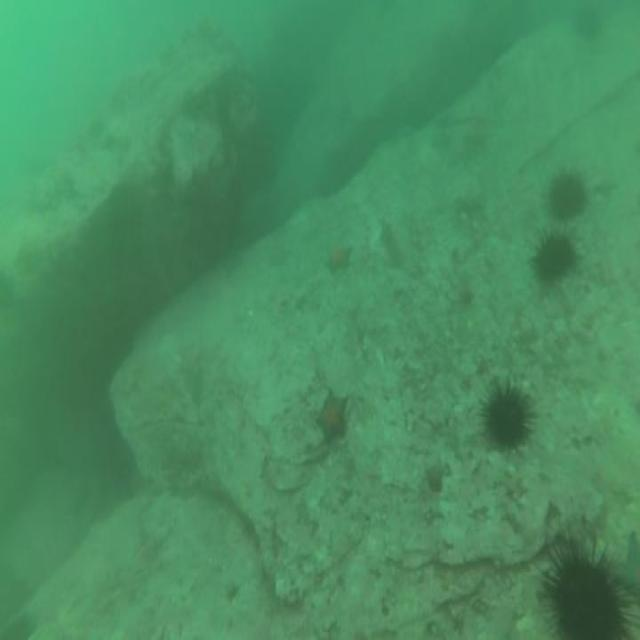echinus: (543, 521, 637, 640), (476, 368, 540, 460), (537, 162, 593, 230), (532, 220, 584, 292)
starfish: (313, 383, 353, 455), (322, 240, 356, 278)
